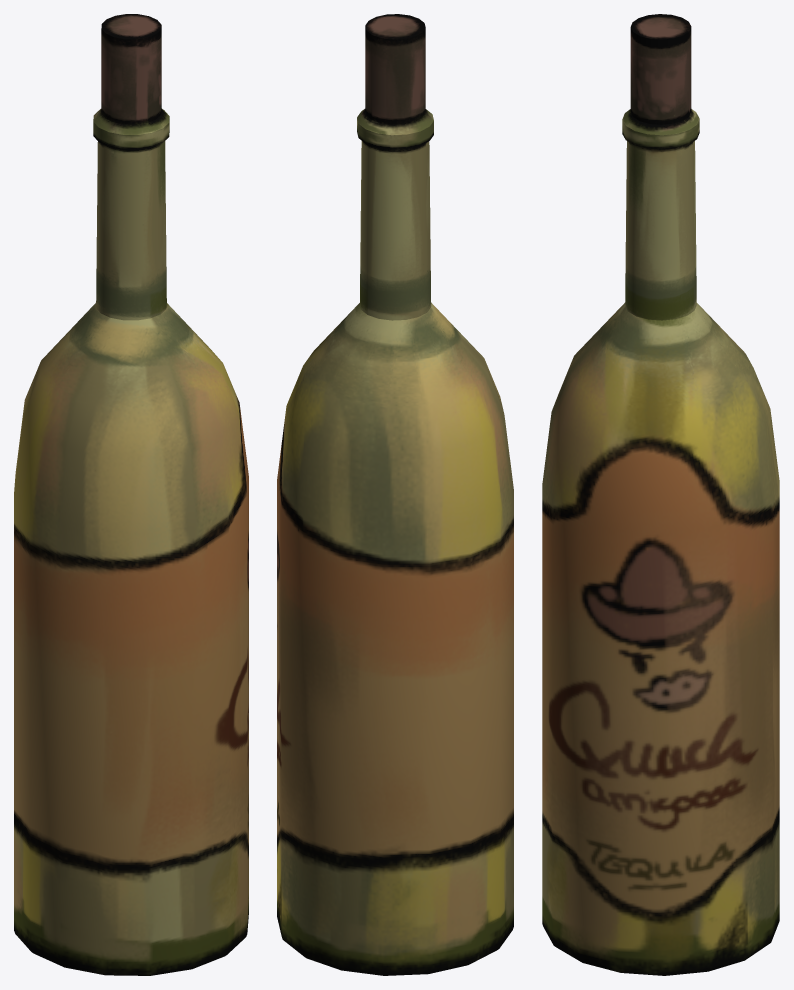
Rendered from tequila.glb.
The picture shows the model from 3 angles, left to right: view 1: azimuth 30°, elevation 25°; view 2: azimuth 150°, elevation 25°; view 3: azimuth 270°, elevation 25°; orthographic projection.
Parts seen in each view (by area): view 1: Tequila; view 2: Tequila; view 3: Tequila.
Part boxes in pixels (<box>): Tequila: <box>14,14,248,975</box>; Tequila: <box>277,14,513,975</box>; Tequila: <box>542,14,779,975</box>.
Size of the model in its own units: 0.1258 by 0.5268 by 0.1258.
Materials: 1 (1 with a texture image).
